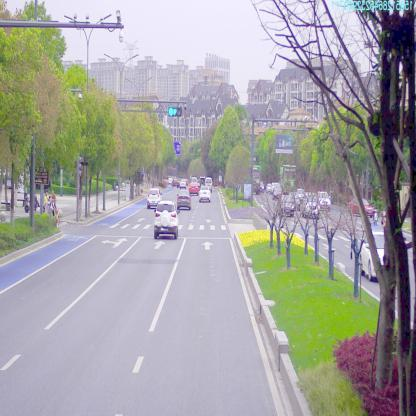traffic-light: (168, 107, 182, 118)
